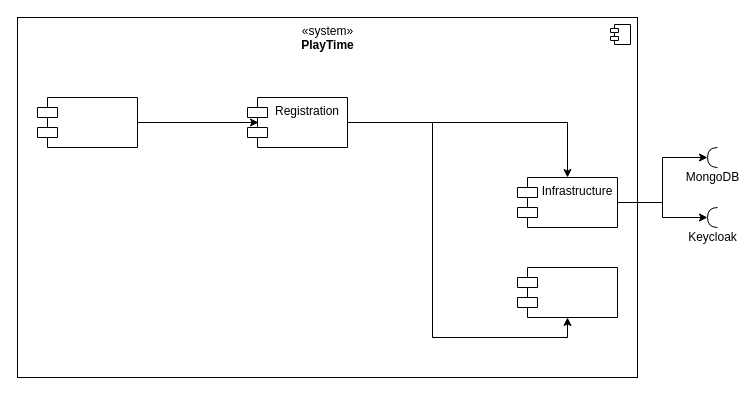
Image size: 756x395. Some labels were removed from this diagram. Here are the shapes that lost their labels. From the top down, the box of each, then its label:
(36, 96, 138, 148): Application
(516, 266, 618, 318): SharedKernel
